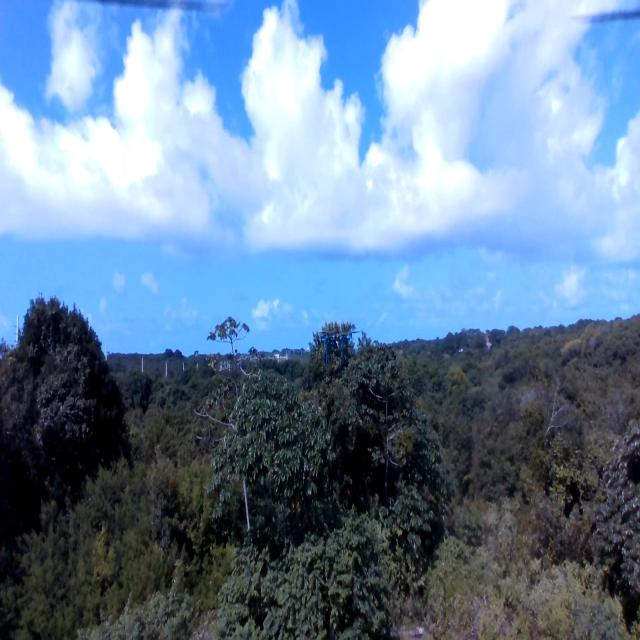-uav-: (321, 326, 353, 364)
